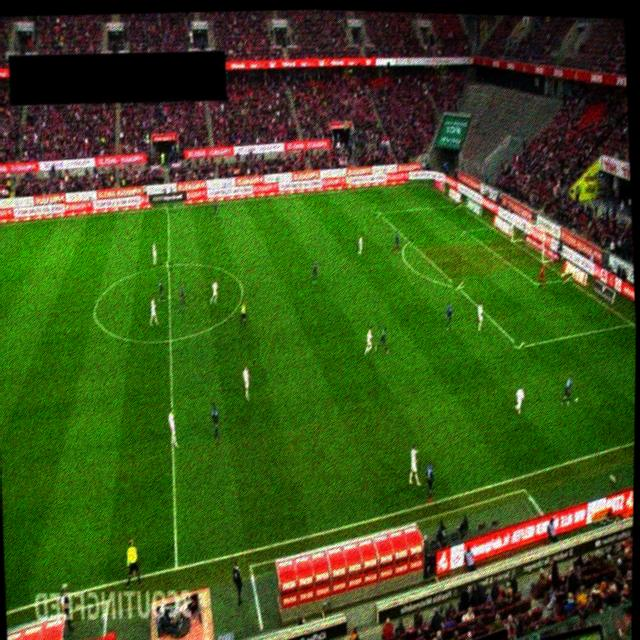bigarea_bottom_inner: (514, 341, 525, 353)
bigarea_bottom_outter: (627, 317, 636, 330)
bigarea_top_inner: (373, 205, 385, 217)
bigarea_top_outter: (453, 199, 465, 211)
bottom_arc_area_intersection: (451, 279, 464, 291)
corner: (419, 178, 431, 189)
halfcircle_bottom: (164, 334, 176, 345)
halfcircle_top: (162, 260, 173, 271)
midline_bottom_intersection: (170, 562, 182, 574)
midline_top_intersection: (161, 202, 173, 213)
smallarea_bottom_inner: (530, 276, 542, 288)
smallarea_bottom_outter: (561, 272, 573, 285)
smallarea_top_inner: (459, 224, 471, 236)
smallarea_top_outter: (487, 222, 498, 234)
top_arc_area_intersection: (404, 235, 415, 246)
